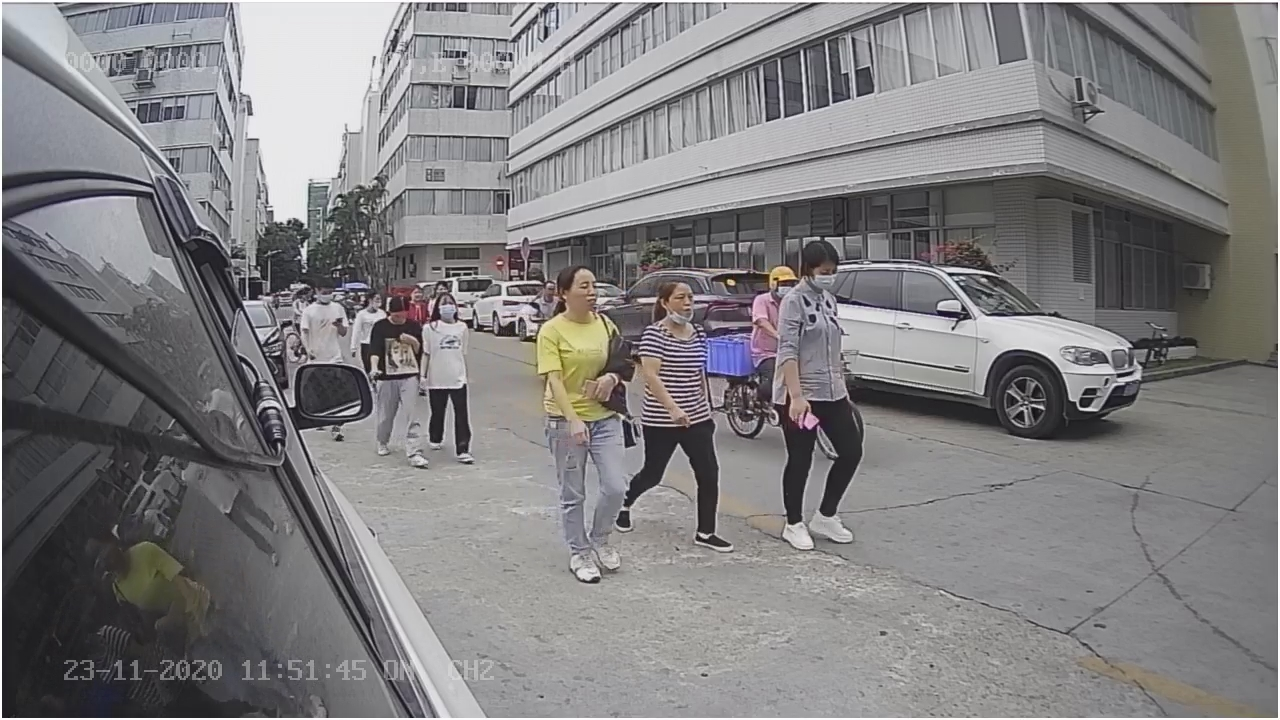person: (527, 263, 634, 581), (767, 240, 875, 552), (417, 291, 485, 467)
